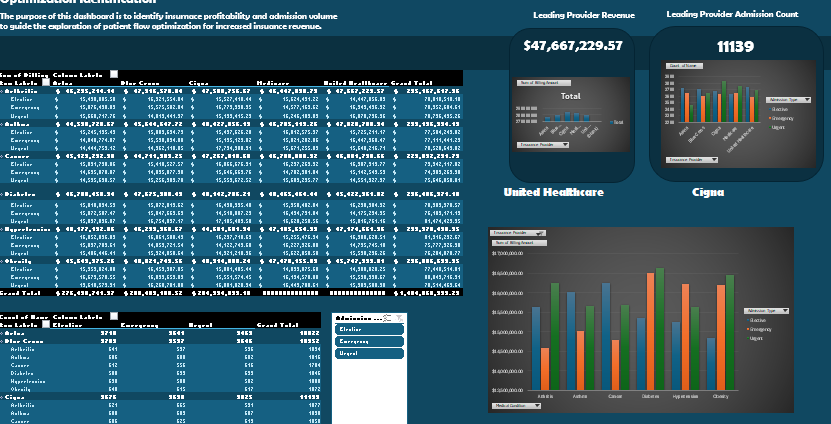

What the dashboard file says about the page in this screenshot:
{"tool":"powerbi","page":{"name":"Dashboard","canvas":[1480,720],"ordinal":1},"visuals":[{"type":"pageNavigator","box":[0,623.3,338.3,96.7],"z":0},{"type":"clusteredColumnChart","title":"Total Billing Amount by Medical Condition Per Admissions and Provider","fields":{"Category":["healthcare_dataset cleaned.Medical Condition"],"Series":["healthcare_dataset cleaned.Admission Type"],"Rows":["healthcare_dataset cleaned.Insurance Provider"],"Y":["Sum(healthcare_dataset cleaned.Billing Amount)"]},"box":[694,0,786,720],"z":1000},{"type":"treemap","title":"Revenue Per Provider","fields":{"Group":["healthcare_dataset cleaned.Insurance Provider"],"Values":["Sum(healthcare_dataset cleaned.Billing Amount)"]},"box":[330,0,364,360],"z":2000},{"type":"areaChart","title":"Admission Count Per Provider","fields":{"Category":["healthcare_dataset cleaned.Insurance Provider"],"Y":["CountNonNull(healthcare_dataset cleaned.Name)"],"Series":["healthcare_dataset cleaned.Admission Type"]},"box":[338,402,366,314],"z":3000},{"type":"slicer","fields":{"Values":["healthcare_dataset cleaned.Medical Condition"]},"box":[0,103.3,330,215],"z":4000},{"type":"actionButton","box":[0,0,330,103.3],"z":5000},{"type":"slicer","fields":{"Values":["healthcare_dataset cleaned.Insurance Provider"]},"box":[0,318.3,330,190],"z":6000},{"type":"slicer","fields":{"Values":["healthcare_dataset cleaned.Admission Type"]},"box":[0,495,338.3,128.3],"z":7000}]}

Visuals, with their boxes on the page's 1480x720 design canvas (x1, y1, x2, y2). These are canvas units, not pixel positions in the 831x424 screenshot, which may show the page scaled, cropped or inside an application window:
pageNavigator: bbox(0, 623, 338, 720)
"Total Billing Amount by Medical Condition Per Admissions and Provider" clusteredColumnChart: bbox(694, 0, 1480, 720)
"Revenue Per Provider" treemap: bbox(330, 0, 694, 360)
"Admission Count Per Provider" areaChart: bbox(338, 402, 704, 716)
slicer - healthcare_dataset cleaned.Medical Condition: bbox(0, 103, 330, 318)
actionButton: bbox(0, 0, 330, 103)
slicer - healthcare_dataset cleaned.Insurance Provider: bbox(0, 318, 330, 508)
slicer - healthcare_dataset cleaned.Admission Type: bbox(0, 495, 338, 623)
